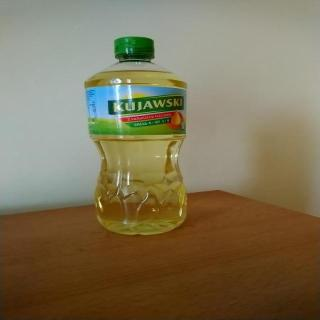Plastic-bottle: (75, 35, 203, 239)
